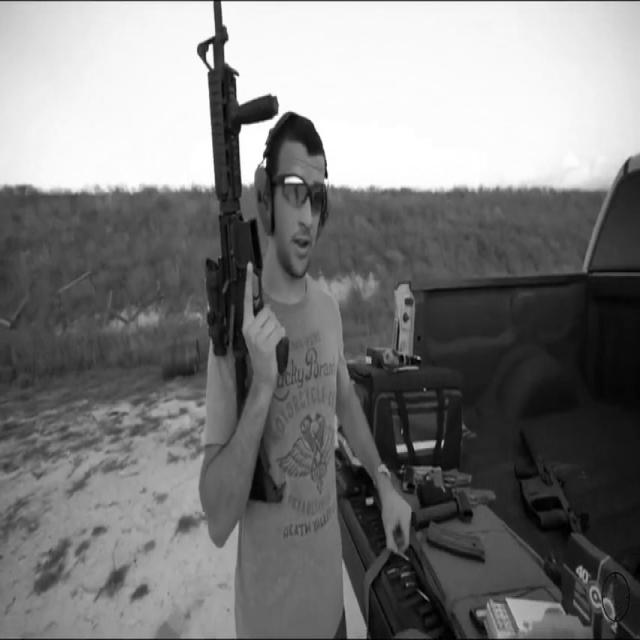Sniper: (190, 4, 282, 507)
Sub-machine-gun: (507, 420, 590, 560)
